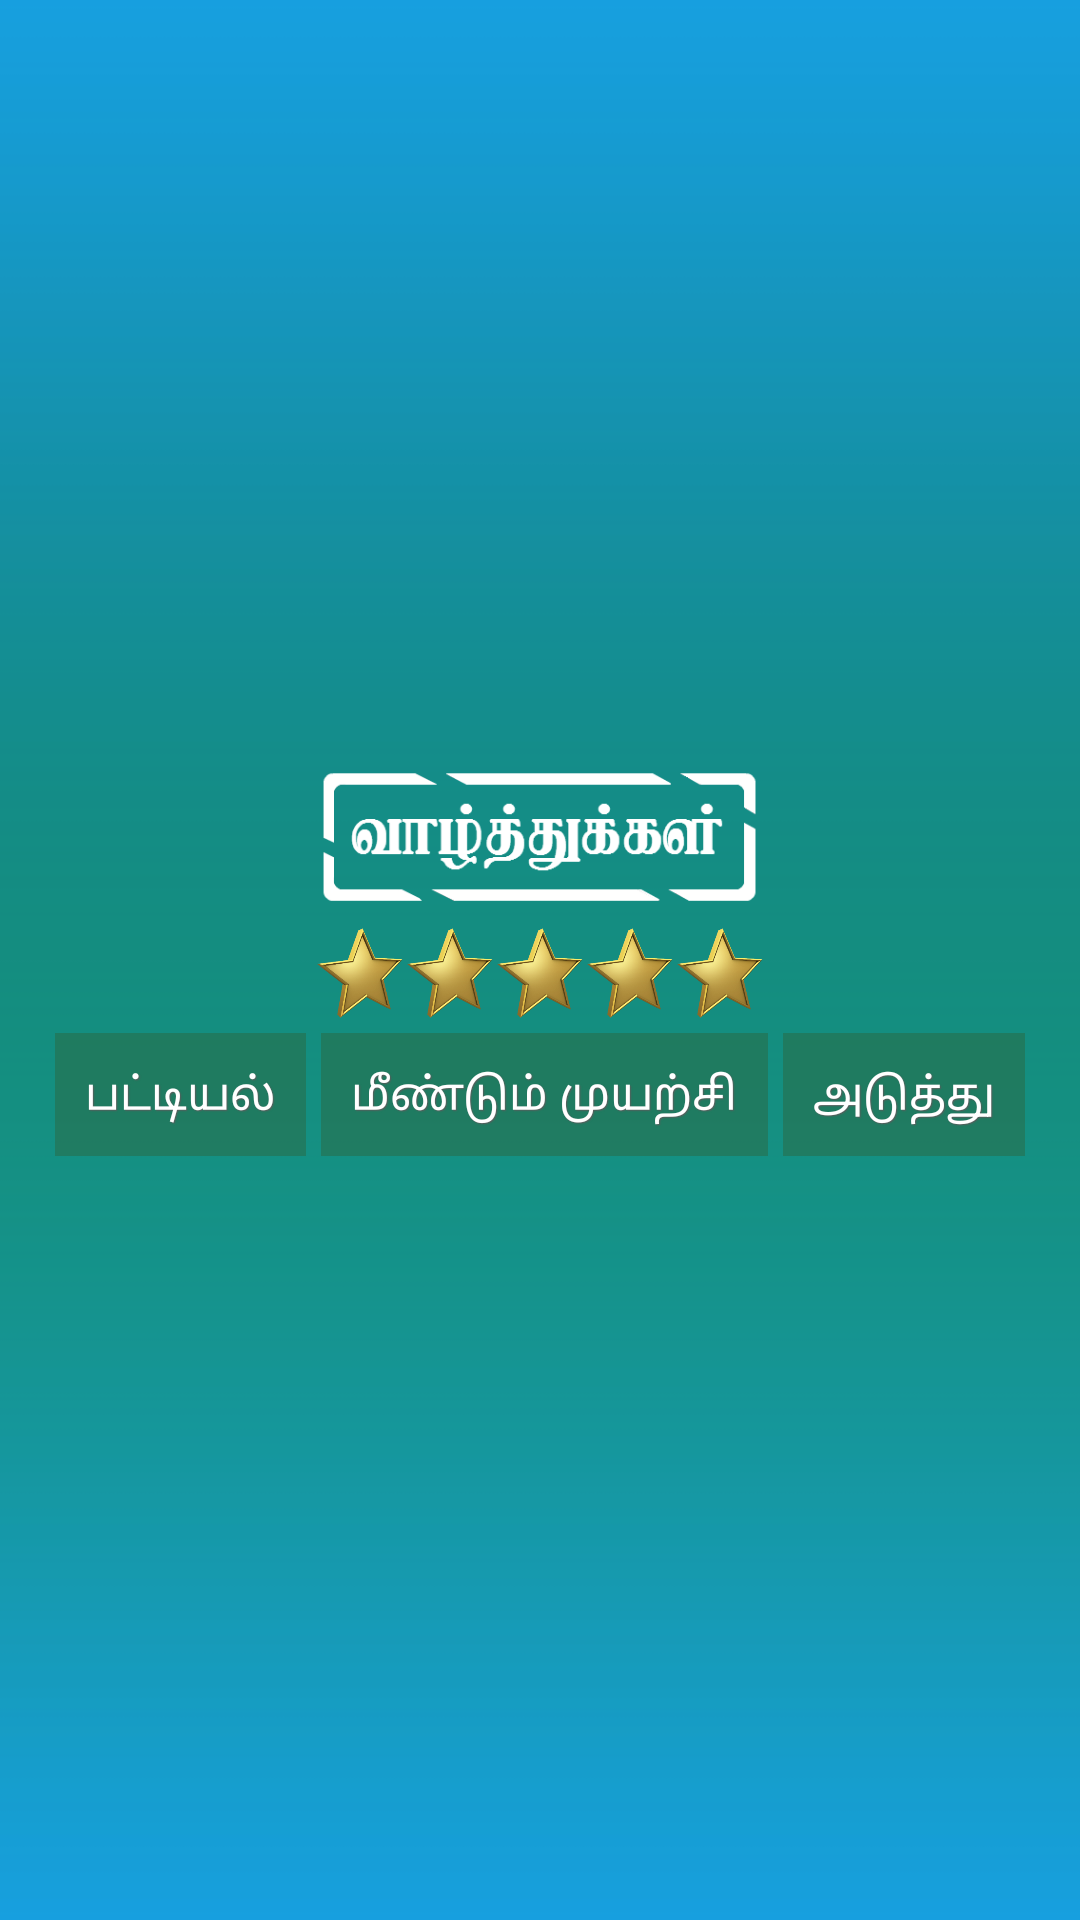

Icons on this 1080*1920 Android screen, each with the point to tap as point (x, y):
star: point (359, 973), point (449, 973), point (539, 973), point (629, 973), point (719, 973)
